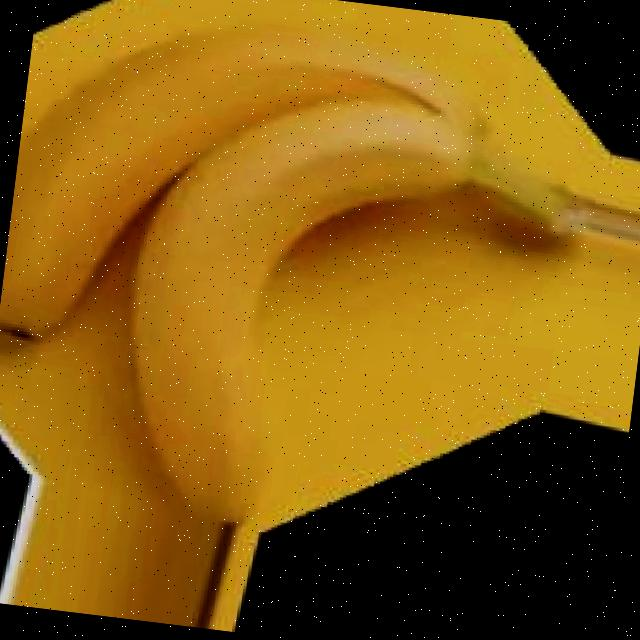banana: (0, 0, 550, 574)
